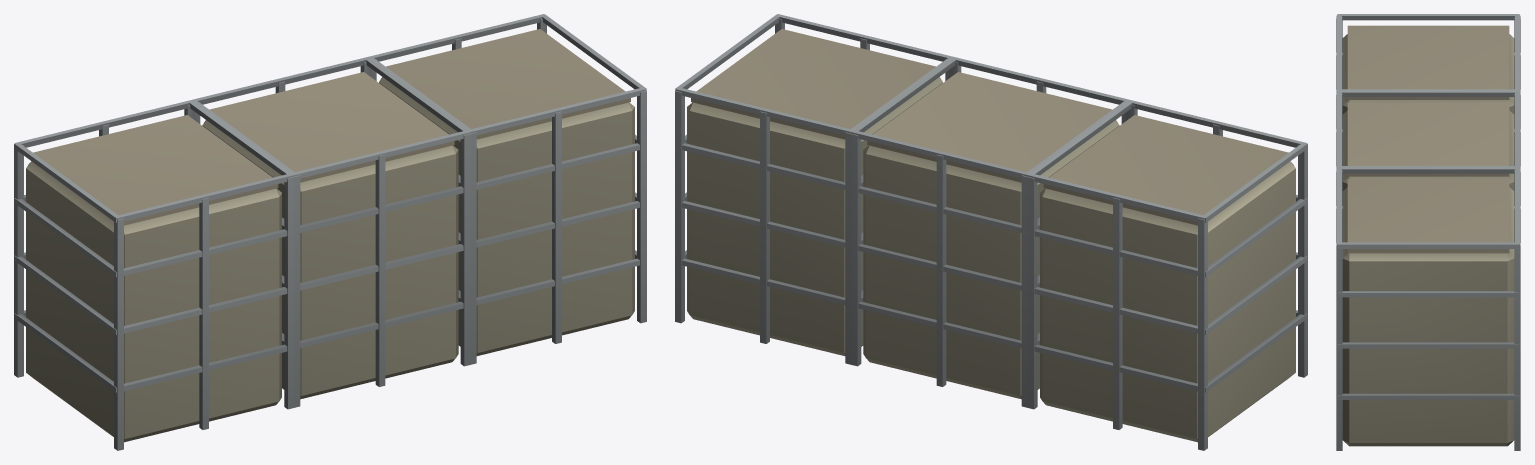
Rendered from mil_hesco.glb.
3 renders of one model, left to right at view 1: azimuth 30°, elevation 25°; view 2: azimuth 150°, elevation 25°; view 3: azimuth 270°, elevation 25°, orthographic. The views are drawn at different scales.
Visible parts, largest first — view 1: mil_hesco; view 2: mil_hesco; view 3: mil_hesco.
Part boxes in pixels (<box>): mil_hesco: <box>14,14,646,450</box>; mil_hesco: <box>675,14,1307,450</box>; mil_hesco: <box>1336,14,1520,450</box>.
Bounding box in the file's own units: 3.37 × 1.41 × 1.14.
